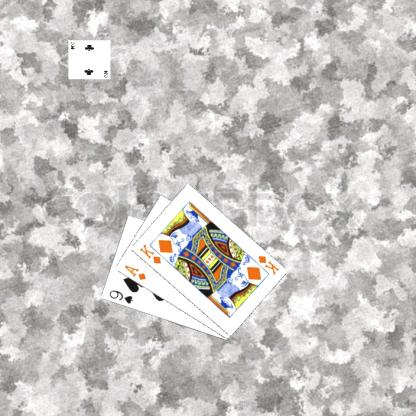9S: (106, 288, 134, 305)
AD: (122, 262, 147, 282)
KD: (136, 241, 162, 265), (255, 253, 281, 276)
